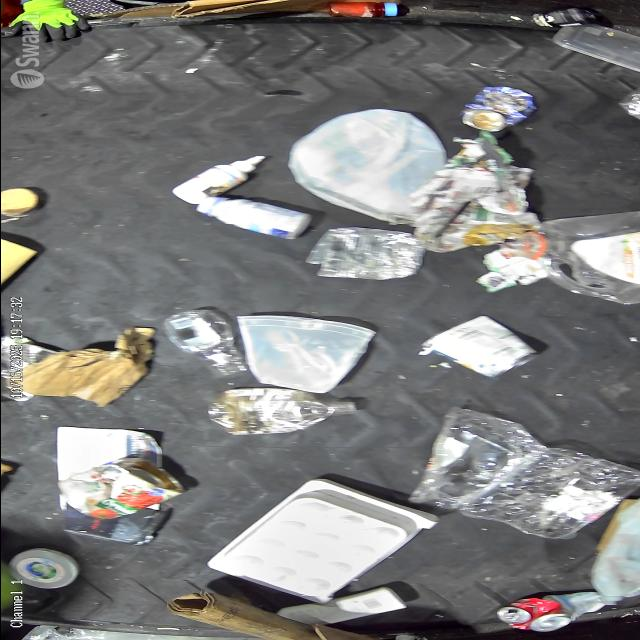can: (56, 457, 188, 521), (419, 313, 542, 378), (298, 228, 427, 282), (458, 84, 538, 131), (494, 596, 571, 634)
milk_jug: (284, 108, 446, 222)
non_white_jug: (510, 210, 640, 306)
plastic_bottle: (200, 387, 364, 435), (160, 308, 250, 378)
